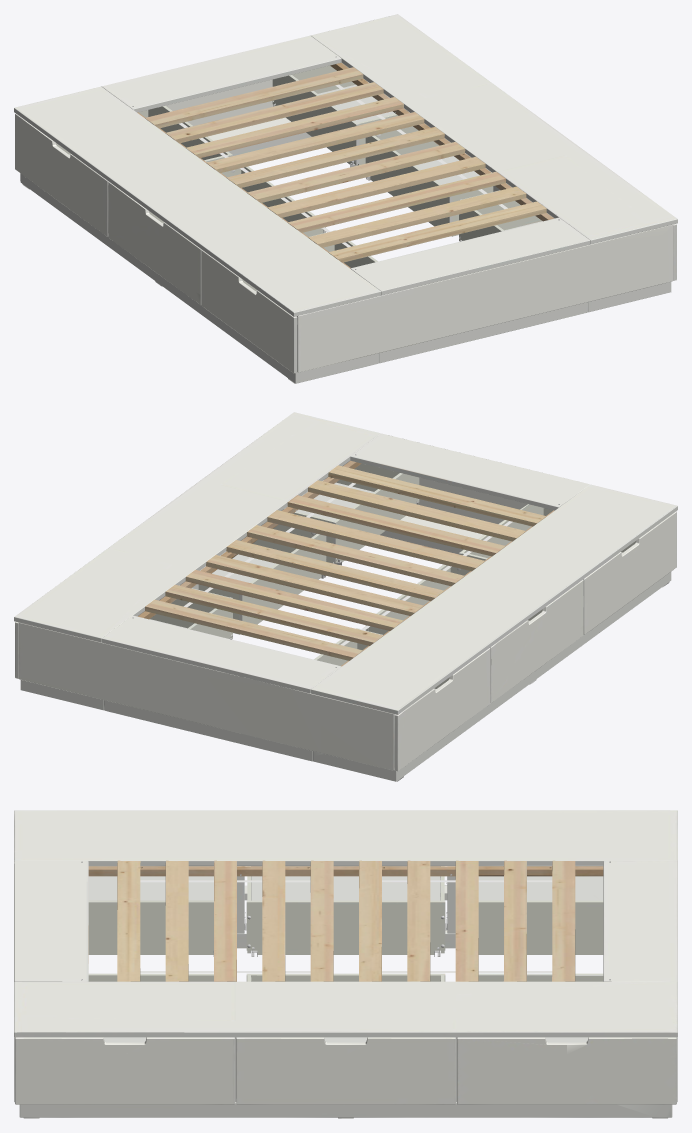
Rendered from NORDLI_00349849.glb.
3 views of the same model, one above another, from view 1: azimuth 30°, elevation 25°; view 2: azimuth 150°, elevation 25°; view 3: azimuth 270°, elevation 25° (orthographic). The views are drawn at different scales.
Parts seen in each view (by area): view 1: model; view 2: model; view 3: model.
Boxes of the visible parts, x1,y1,x2,y2 form: model: (14,14,677,383); model: (14,412,677,781); model: (14,810,677,1118).
Bounding box in the file's own units: 1.6 × 0.3014 × 2.02.
Materials: 1 (1 with a texture image).
